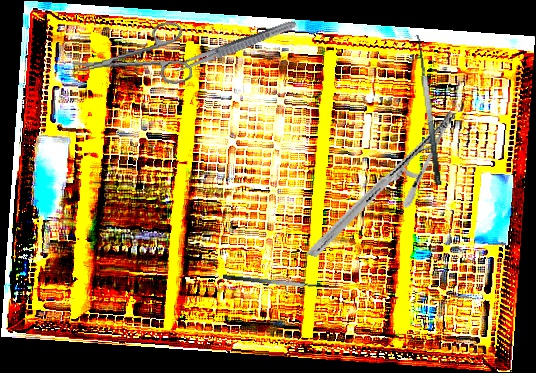Dressing Forceps: (172, 17, 299, 76)
Iris Scissors: (67, 19, 194, 97)
Needle Holder: (307, 84, 458, 284)
Spatula Surgical: (406, 34, 443, 187), (222, 265, 338, 294)
